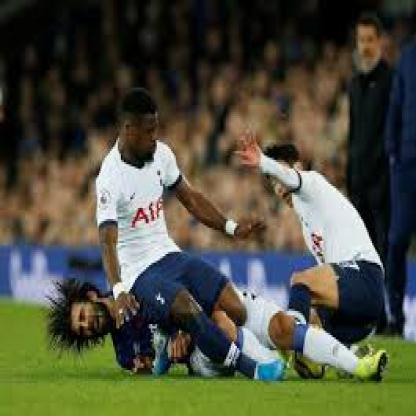Fall_Down: (92, 87, 390, 387)
